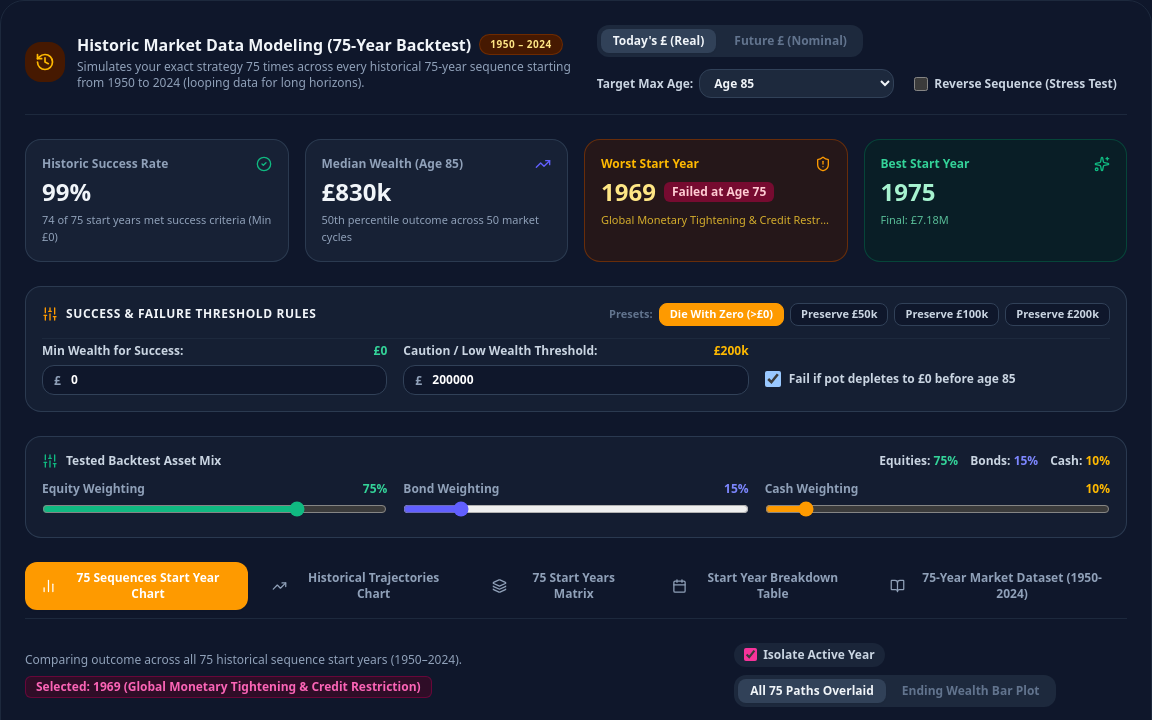
Test: HistoricModelingCard › allows adjusting asset allocation sliders
Equity slider is first slider
Step 1. Set the slider below "Equity Weighting" to "60" → (248,508), box left=42, top=500, right=387, bottom=516
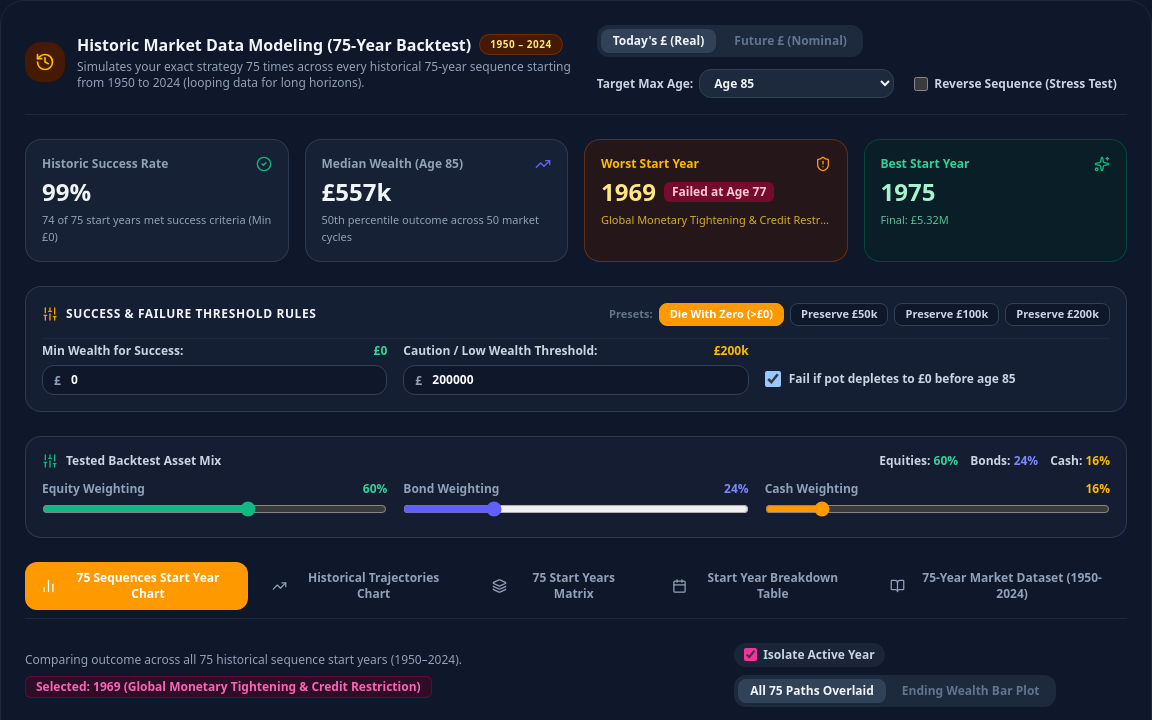
Expected: the text "60%" next to "Equities:" is shown, left=934, top=452, right=958, bottom=468
